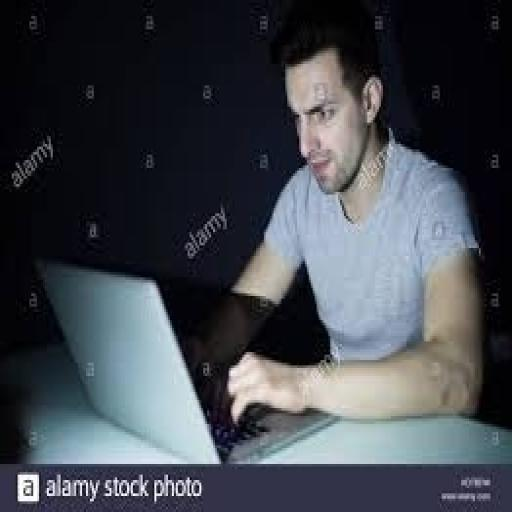using_laptop: (31, 251, 342, 464)
